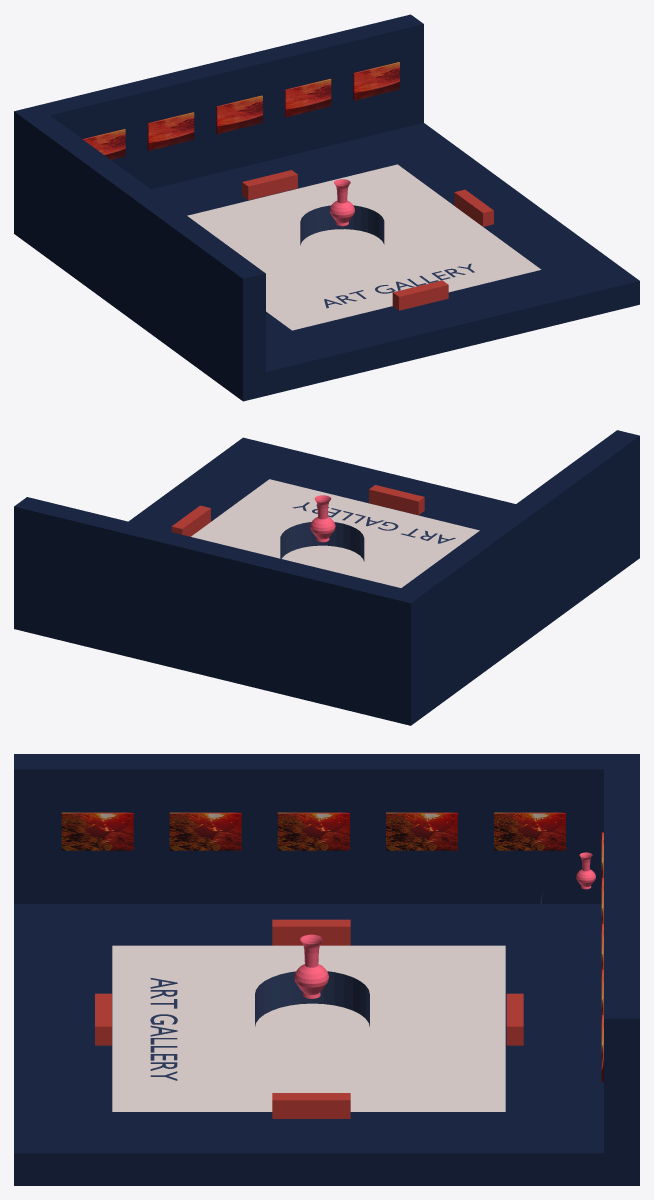
3 views of the same model, one above another, from view 1: azimuth 30°, elevation 25°; view 2: azimuth 150°, elevation 25°; view 3: azimuth 270°, elevation 25° (orthographic). The views are drawn at different scales.
Parts seen in each view (by area): view 1: Plane, Cube.001, Circle, Cube.002, Cube.003, Cube.004, main vase body, Text; view 2: Plane, Circle, Cube.002, main vase body, Cube.004, Text; view 3: Plane, Cube, Circle, Cube.004, Cube.005, main vase body, Text, Cube.003, Cube.002, Cube.001.
Part boxes in pixels (x1,y1,x2,y2): Plane: [14, 14, 639, 401]; Cube.001: [82, 62, 399, 159]; Circle: [300, 205, 384, 244]; Cube.002: [392, 280, 448, 310]; Cube.003: [242, 170, 297, 200]; Cube.004: [454, 189, 493, 226]; main vase body: [329, 179, 354, 226]; Text: [324, 263, 474, 308]; Plane: [14, 430, 639, 725]; Circle: [280, 522, 364, 561]; Cube.002: [369, 485, 424, 515]; main vase body: [310, 495, 335, 542]; Cube.004: [171, 505, 210, 536]; Text: [292, 502, 455, 543]; Plane: [14, 754, 639, 1185]; Cube: [61, 812, 565, 850]; Circle: [255, 971, 369, 1026]; Cube.004: [272, 1093, 350, 1118]; Cube.005: [272, 919, 350, 945]; main vase body: [294, 934, 328, 998]; Text: [150, 978, 177, 1080]; Cube.003: [506, 993, 523, 1045]; Cube.002: [95, 993, 111, 1045]; Cube.001: [601, 832, 603, 1082].
Size of the model in its own units: 16 by 4.72 by 16.
Materials: 7 (1 with a texture image).
